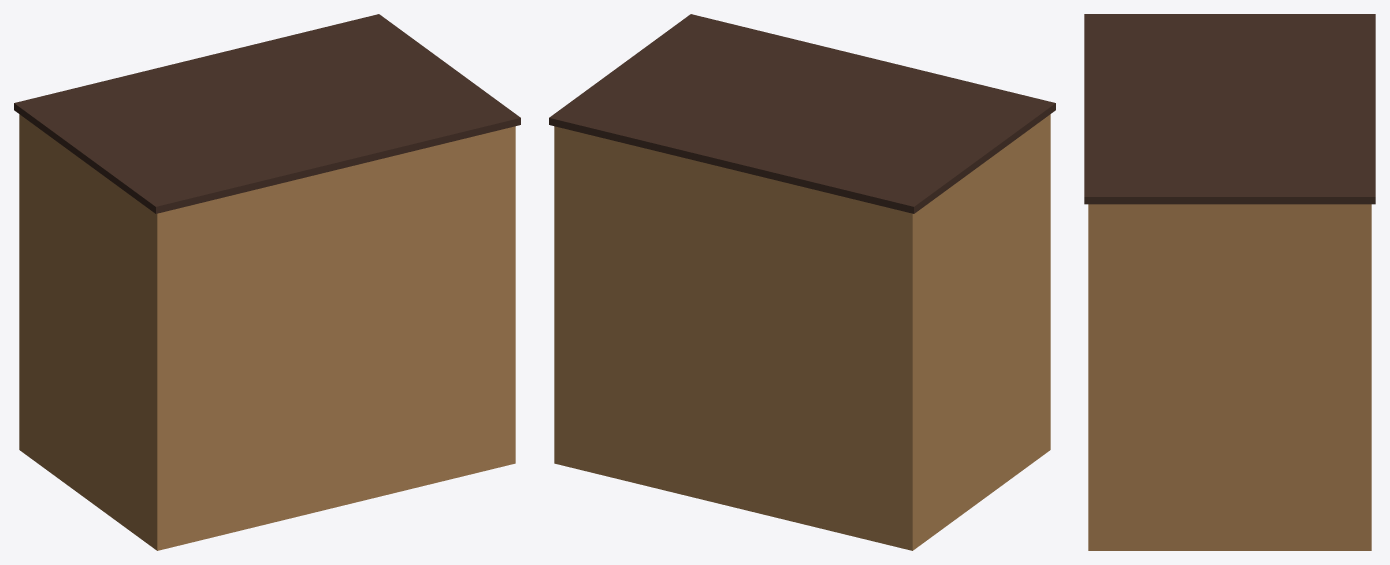
3 views of the same model, side by side, from view 1: azimuth 30°, elevation 25°; view 2: azimuth 150°, elevation 25°; view 3: azimuth 270°, elevation 25° (orthographic). The views are drawn at different scales.
Visible parts, largest first — view 1: equipo_mecanico; view 2: equipo_mecanico; view 3: equipo_mecanico.
Part boxes in pixels (bbox=[...]): equipo_mecanico: bbox=[14, 14, 520, 550]; equipo_mecanico: bbox=[549, 14, 1055, 550]; equipo_mecanico: bbox=[1084, 14, 1375, 550].
Bounding box in the file's own units: 2.14 × 1.44 × 1.94.
